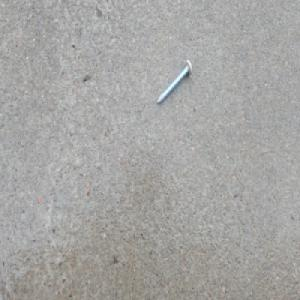Nail: (156, 57, 193, 106)
